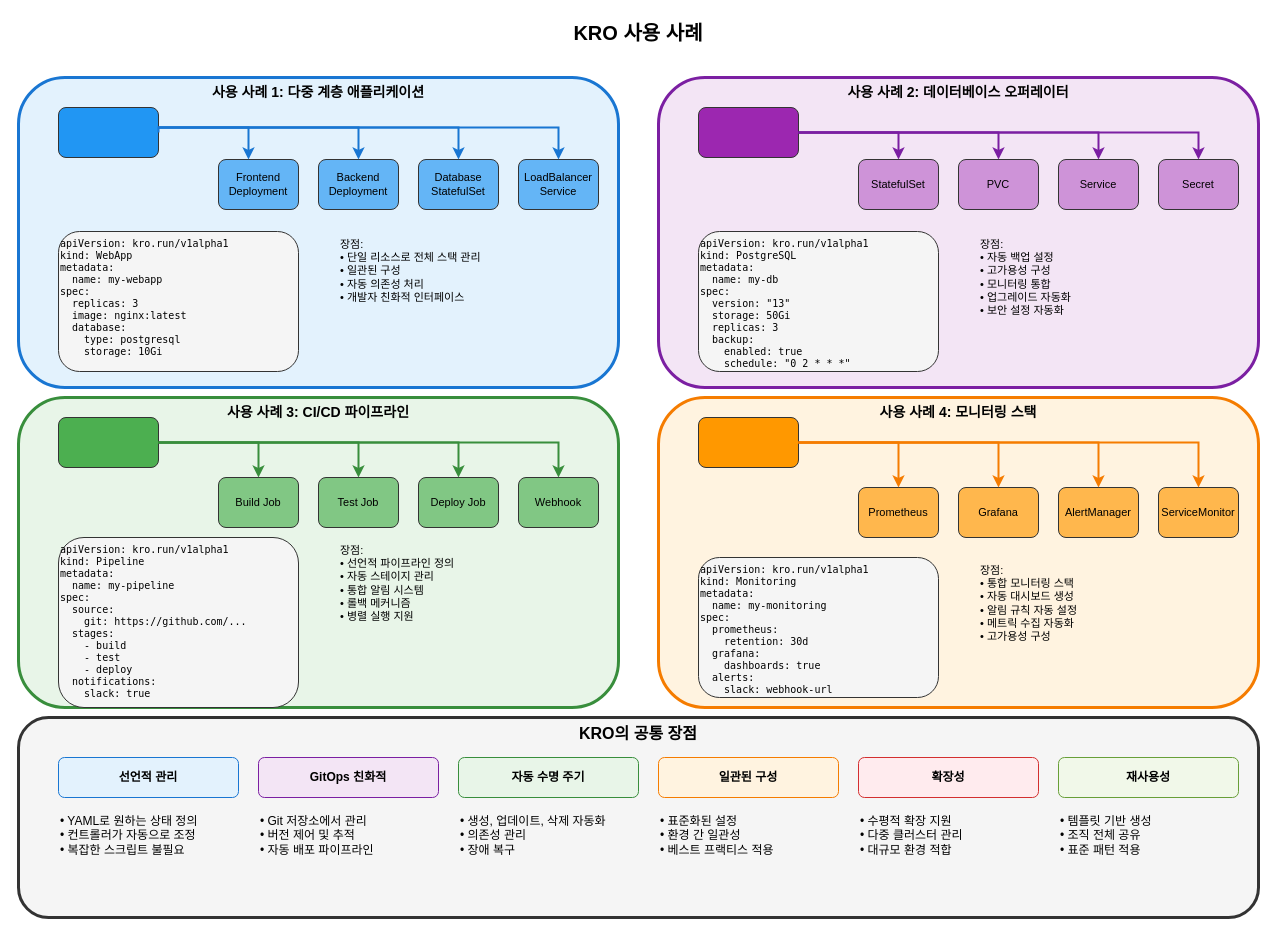
Some shapes in this 1277 by 936 pixel diagram are drawn without their labels. Here are the shapes that lost their labels. From the top down, the centre of each, then its label:
At point 108,132: "WebApp CR".
At point 748,132: "PostgreSQL CR".
At point 108,442: "Pipeline CR".
At point 748,442: "Monitoring CR".
